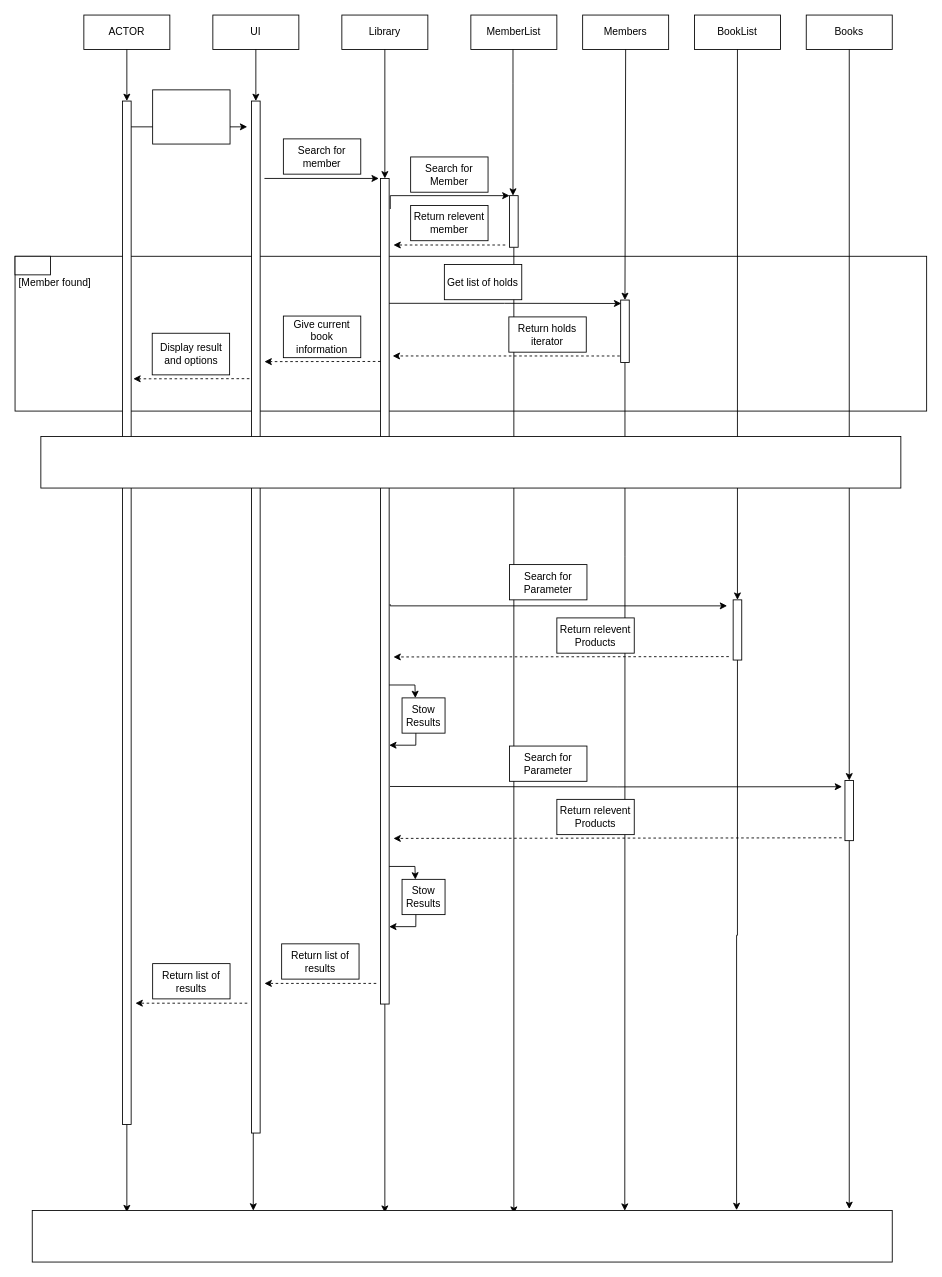
Some shapes in this 942 by 1277 pixel diagram are drawn without their labels. Each missing label, with the centre of its shape:
FINISH: pixel 461 1236
Next: actor makes decision for current hold: pixel 470 462
opt: pixel 32 265
Request a member's holds: pixel 191 116
